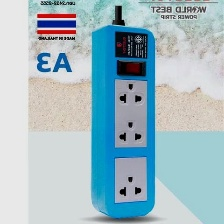three_eye_plug: (86, 21, 162, 221)
